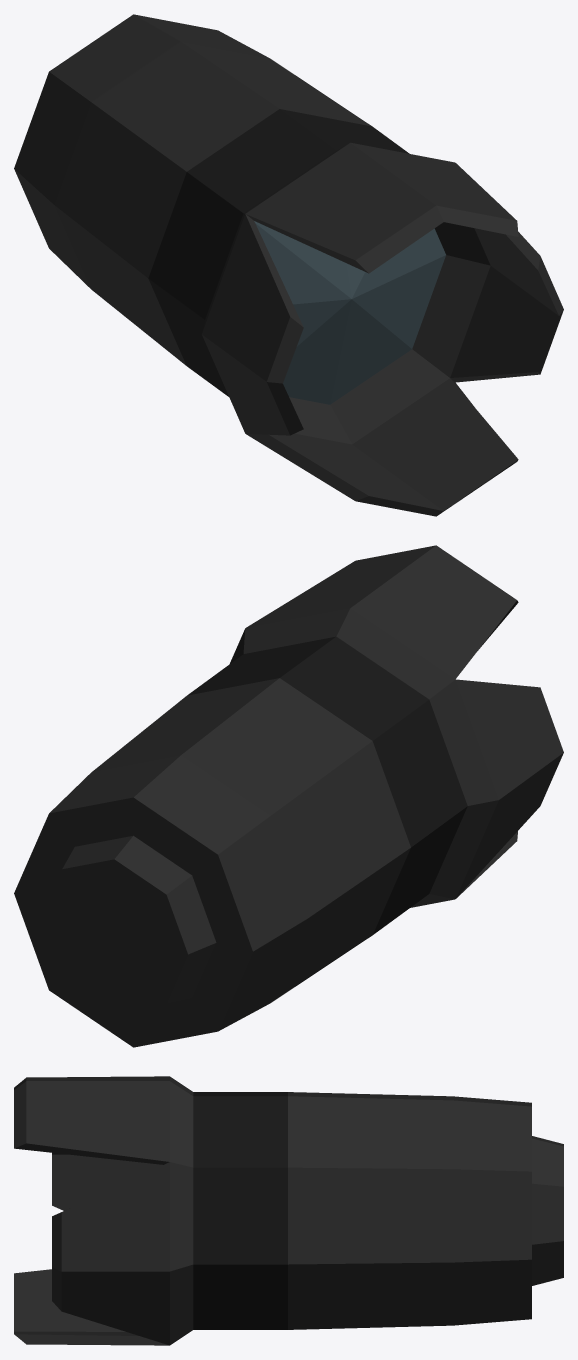
The model's file is electronics_camera-dslr-objective-big.fbx.
3 renders of one model, top to bottom at view 1: azimuth 30°, elevation 25°; view 2: azimuth 150°, elevation 25°; view 3: azimuth 270°, elevation 25°, orthographic. The views are drawn at different scales.
Visible parts, largest first — view 1: electronics_camera_dslr_objective_big; view 2: electronics_camera_dslr_objective_big; view 3: electronics_camera_dslr_objective_big.
Part boxes in pixels (x1=…): electronics_camera_dslr_objective_big: x1=14, y1=14, x2=563, y2=516; electronics_camera_dslr_objective_big: x1=14, y1=545, x2=563, y2=1047; electronics_camera_dslr_objective_big: x1=14, y1=1076, x2=563, y2=1345.
Bounding box in the file's own units: 93.83 × 93.83 × 180.
